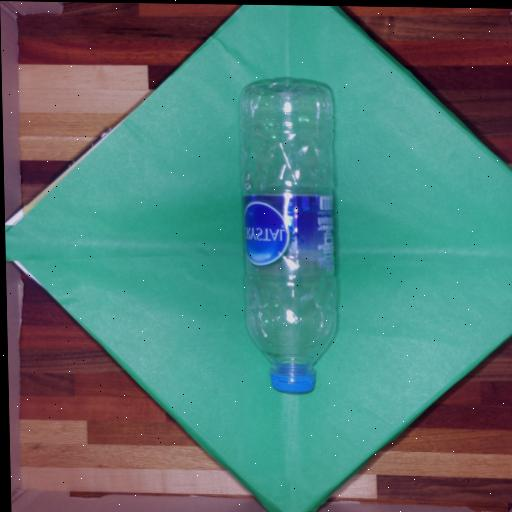bottle: (240, 83, 336, 392)
